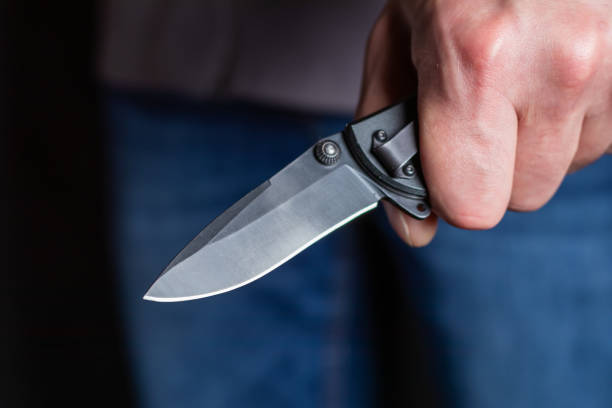knife: (137, 94, 435, 304)
